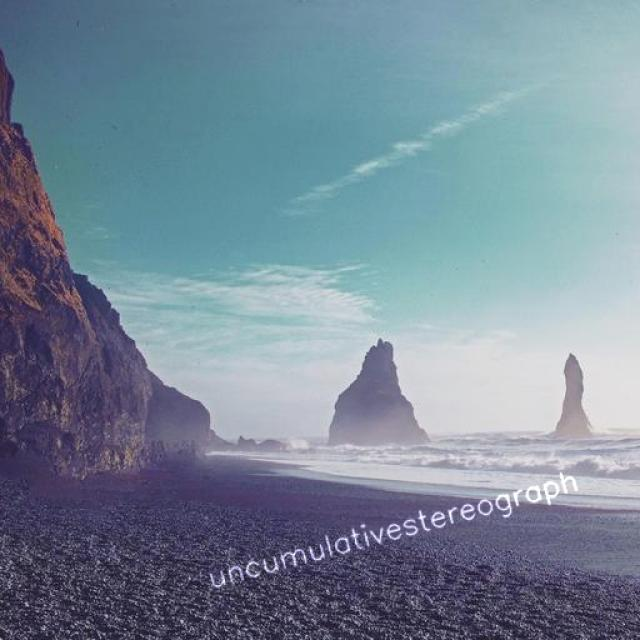watermark: (202, 466, 580, 592)
